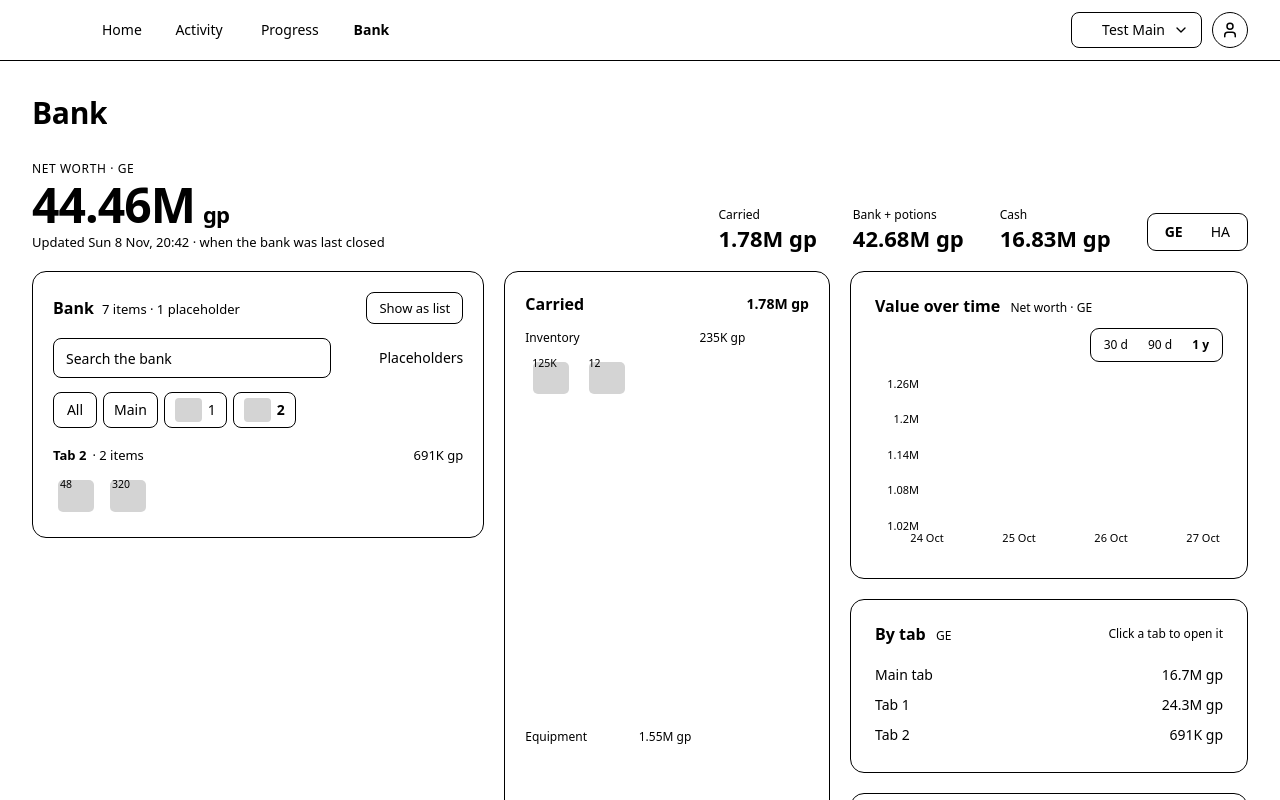
Test: Bank › searches every tab at once, without tab buttons
Type "o" into the search field labelled "Search the bank" at coordinates (192, 358), box [53,338,331,378]
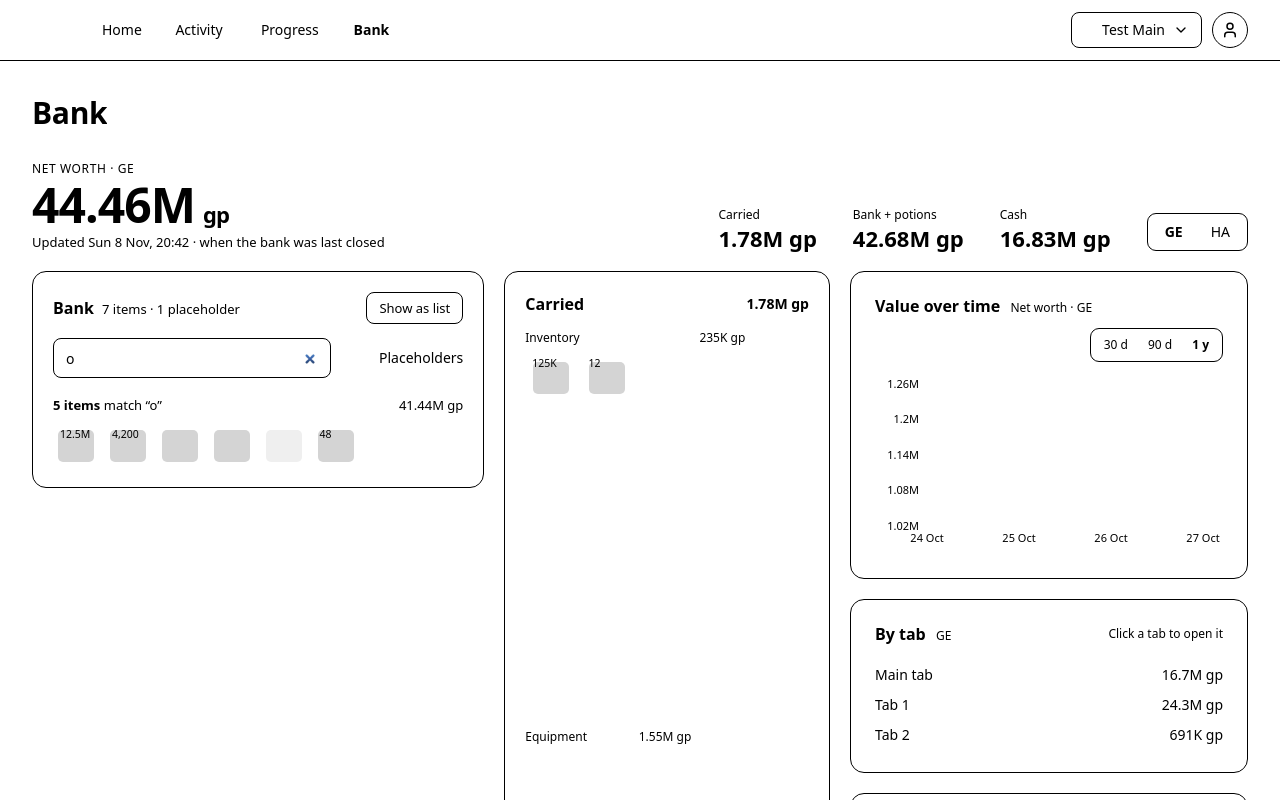
Expected: the text "5 items" is shown, [53,396,100,414]
Type "zzz" into the search field at coordinates (192, 358), box [53,338,331,378]
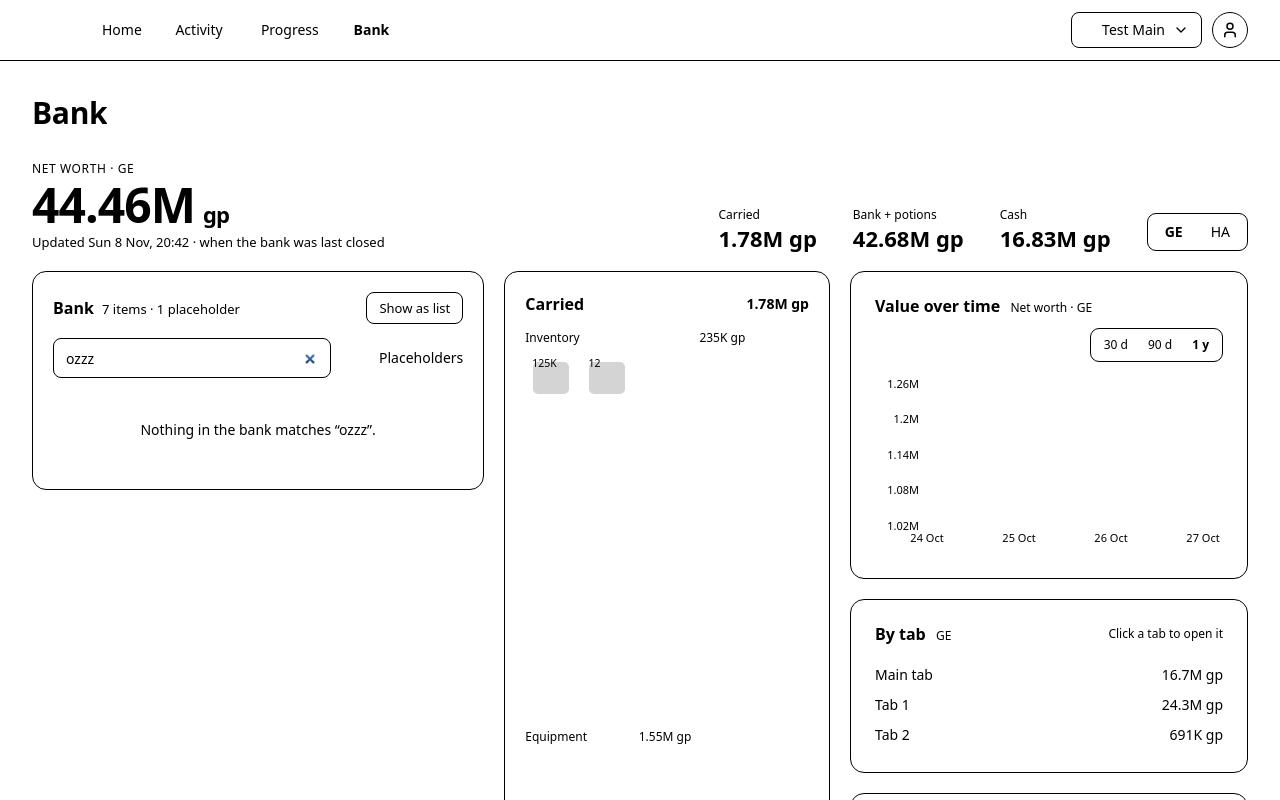
Expected: the text "Nothing in the bank matches “ozzz”." is shown, [140,420,376,440]
Expected: the picture "12.5M 4,200 48" is gone
